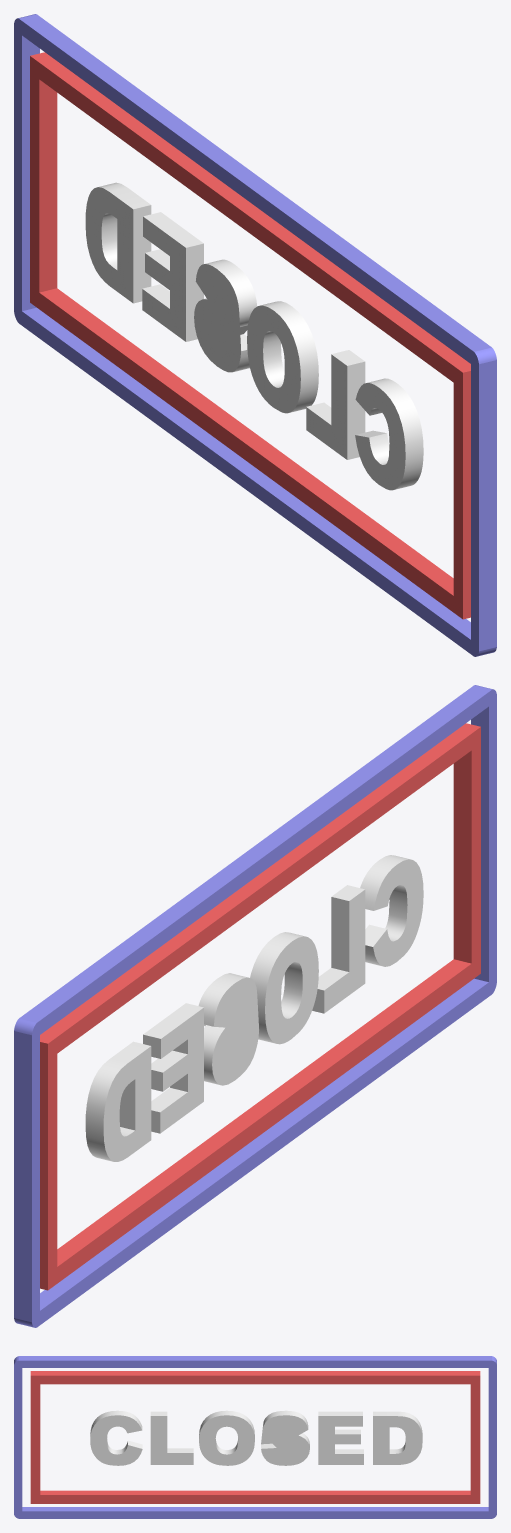
File: Closed Sign.fbx
The picture shows the model from 3 angles, top to bottom: view 1: azimuth 30°, elevation 25°; view 2: azimuth 150°, elevation 25°; view 3: azimuth 270°, elevation 25°; orthographic projection. The views are drawn at different scales.
Visible parts, largest first — view 1: Group1, CLOSED1; view 2: Group1, CLOSED1; view 3: Group1, CLOSED1.
Boxes of the visible parts, box(x1,y1,x2,y2) form: Group1: box(14, 14, 496, 656); CLOSED1: box(85, 182, 423, 490); Group1: box(14, 685, 496, 1327); CLOSED1: box(85, 855, 423, 1161); Group1: box(14, 1356, 496, 1518); CLOSED1: box(90, 1410, 422, 1465).
Bounding box in the file's own units: 1 × 16.18 × 44.74.
